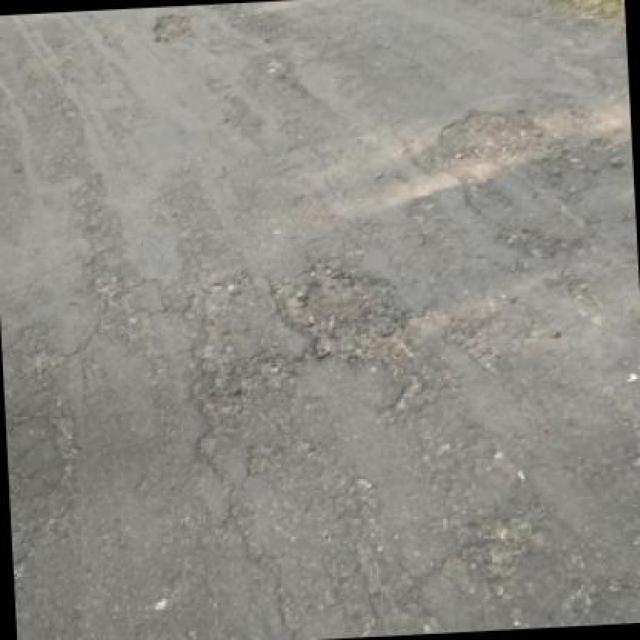pothole: (281, 258, 422, 372), (434, 105, 548, 163), (148, 10, 198, 47)
